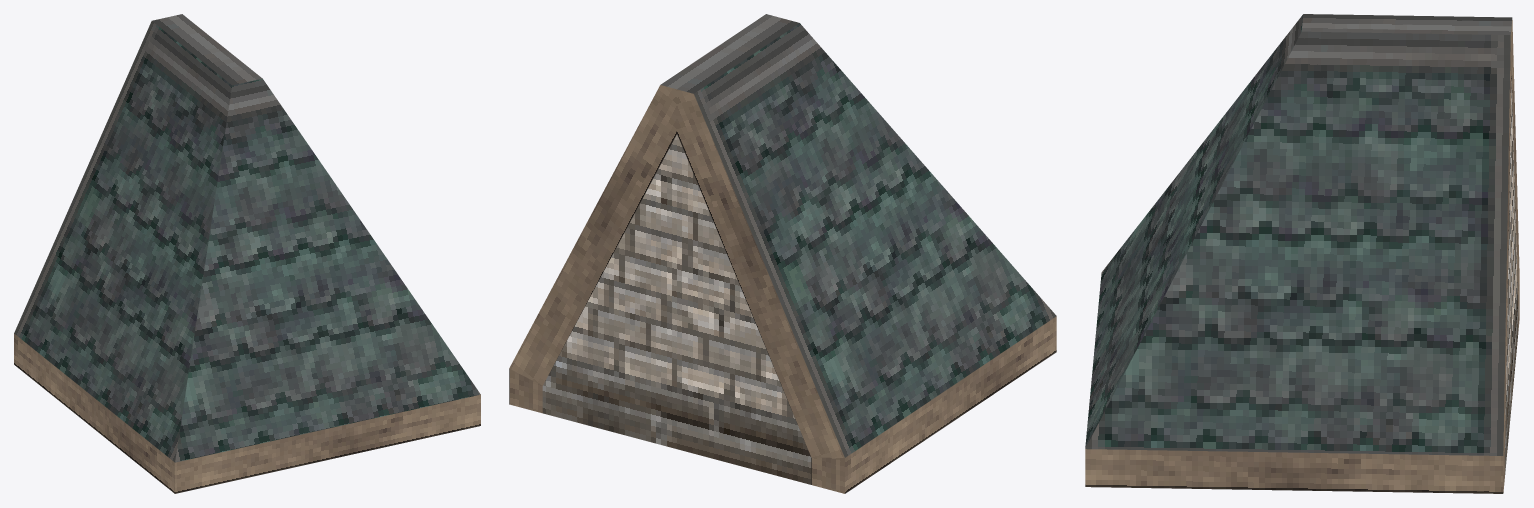
Rendered from roof-edge.006_lev3.glb.
3 renders of one model, left to right at view 1: azimuth 30°, elevation 25°; view 2: azimuth 150°, elevation 25°; view 3: azimuth 270°, elevation 25°, orthographic. The views are drawn at different scales.
Visible parts, largest first — view 1: roof-edge.006_lev3; view 2: roof-edge.006_lev3; view 3: roof-edge.006_lev3.
Part boxes in pixels (x1,y1,x2,y2): roof-edge.006_lev3: [14, 14, 480, 493]; roof-edge.006_lev3: [509, 14, 1056, 493]; roof-edge.006_lev3: [1085, 14, 1519, 493].
Size of the model in its own units: 8.31 by 8 by 8.31.
Materials: 4 (4 with a texture image).
